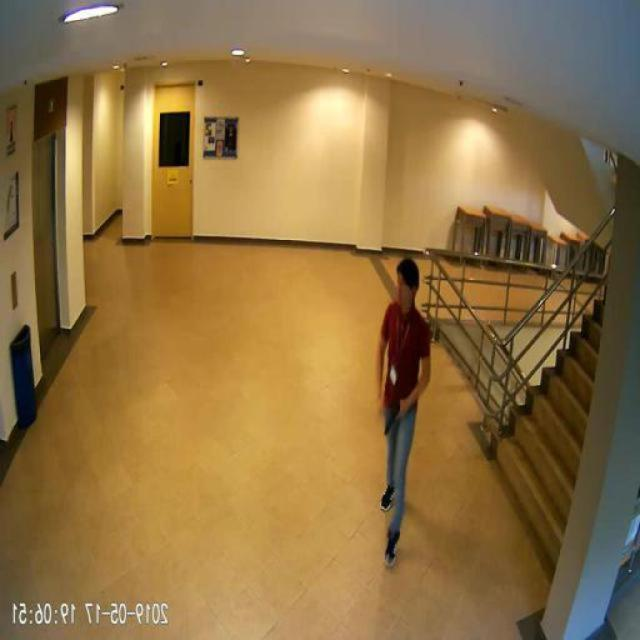pistol: (387, 398, 408, 436)
